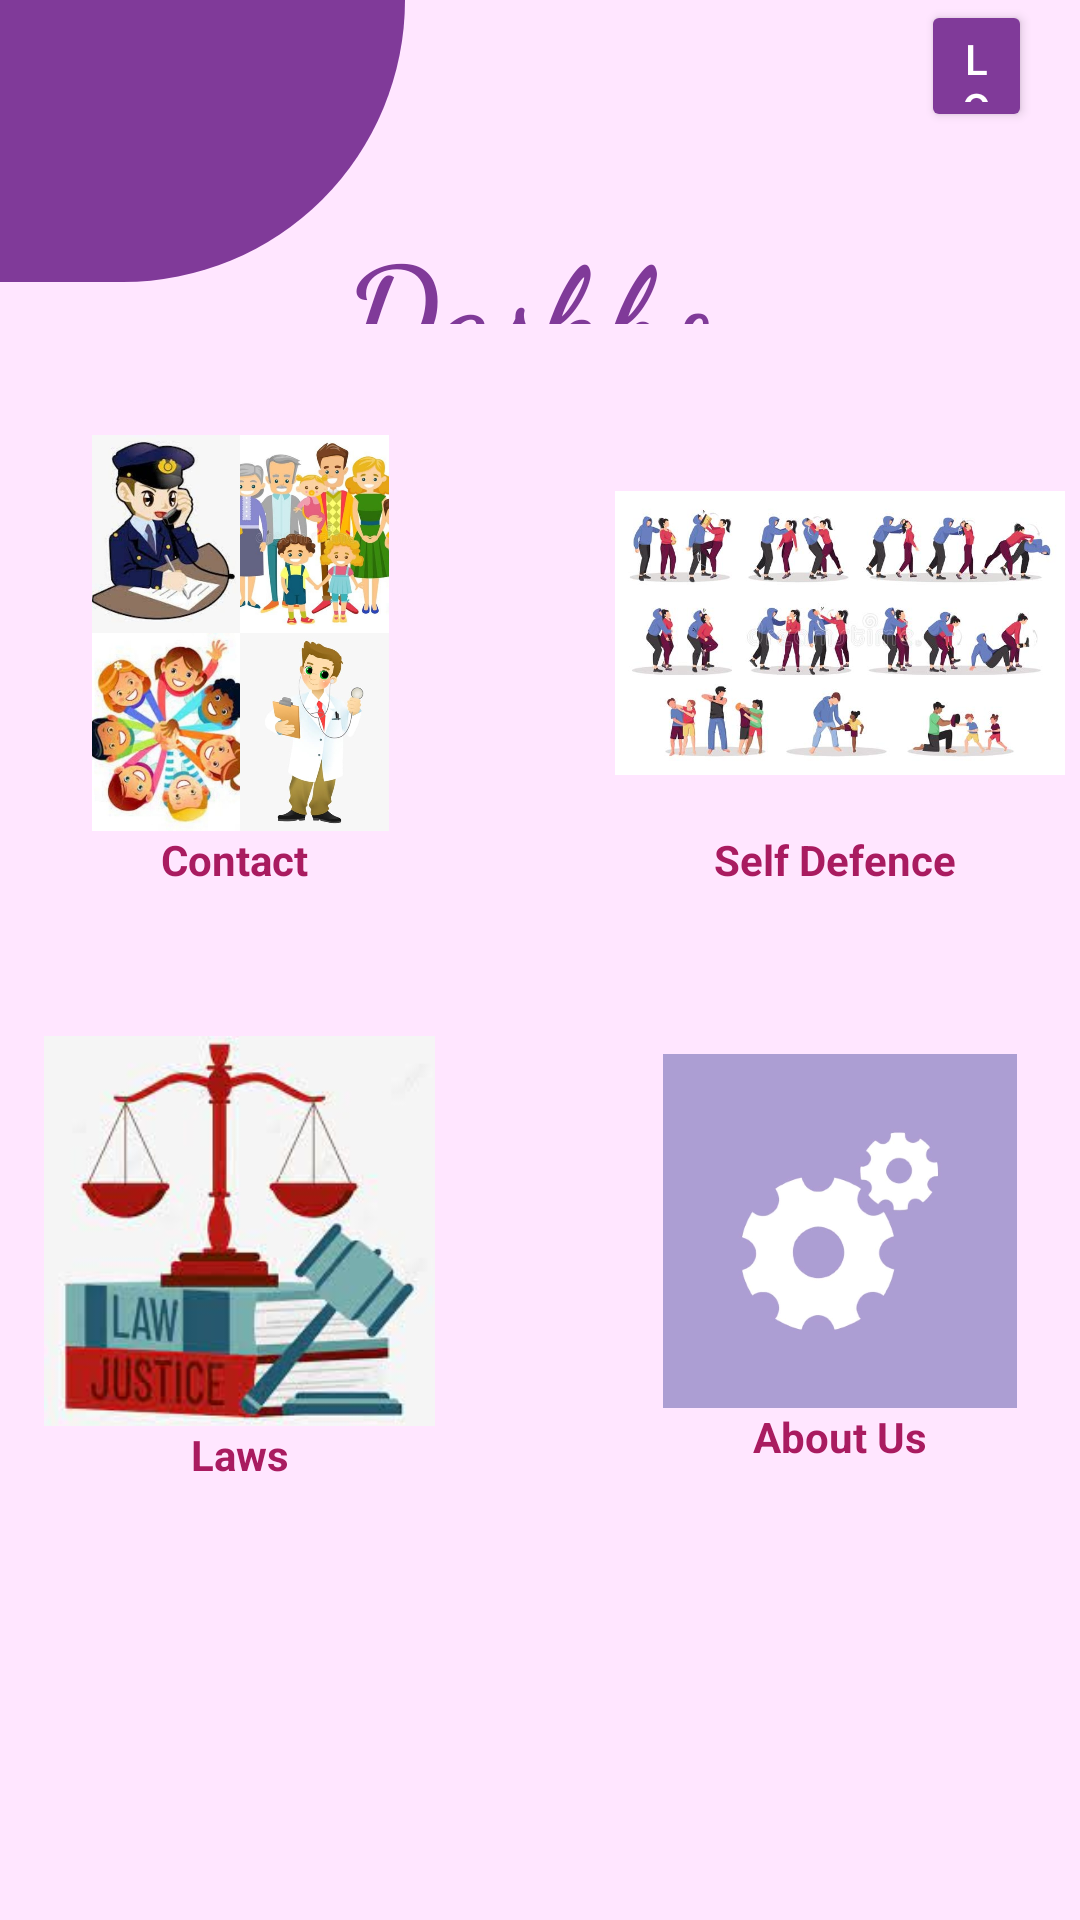

Icon click points for this 1080x1920 phone screenshot, format point (x, y):
set: point (840, 1231)
